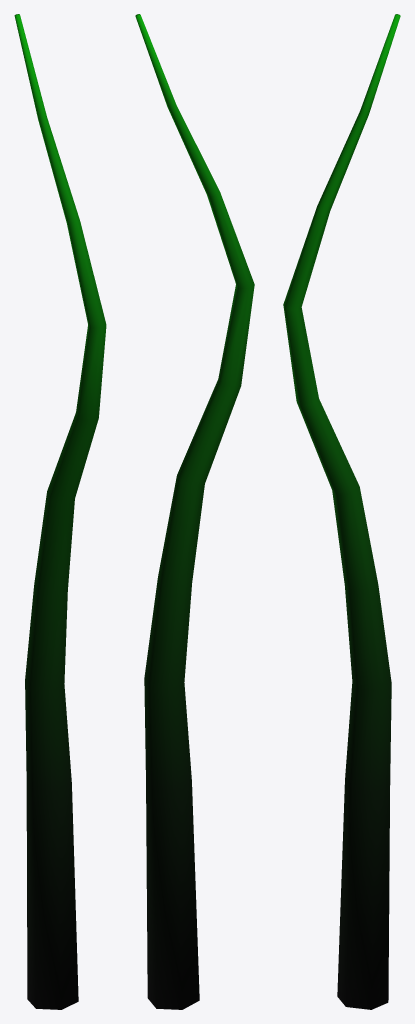
Rendered from small_tree_trunk.obj.
3 renders of one model, left to right at view 1: azimuth 90°, elevation 25°; view 2: azimuth 150°, elevation 25°; view 3: azimuth 330°, elevation 25°, orthographic.
Visible parts, largest first — view 1: SmallTreeTrunk; view 2: SmallTreeTrunk; view 3: SmallTreeTrunk.
Boxes of the visible parts, x1,y1,x2,y2 form: SmallTreeTrunk: (14, 14, 106, 1009); SmallTreeTrunk: (135, 14, 254, 1009); SmallTreeTrunk: (283, 14, 400, 1009).
Bounding box in the file's own units: 1.38 × 16.55 × 1.41.
